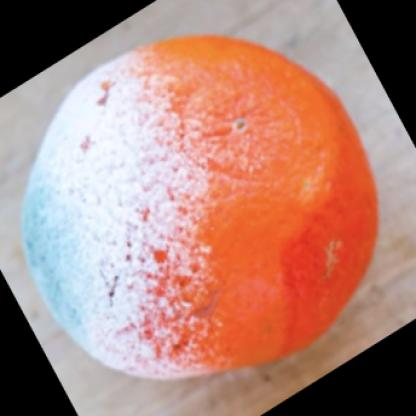rotten: (26, 35, 380, 380)
